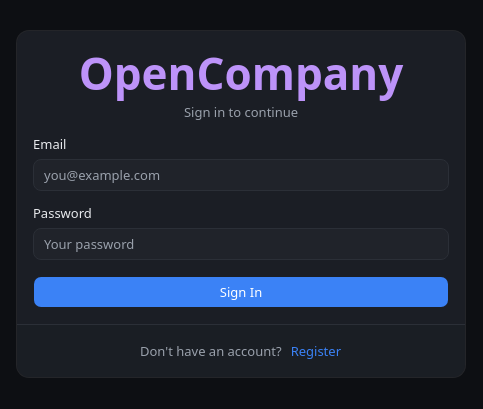
Test: LoginPage › requires a password
The width and height of the screenshot is (483, 409).
In the field labelled "Email": (241, 175) [33,159,449,191], type "a@b.com"
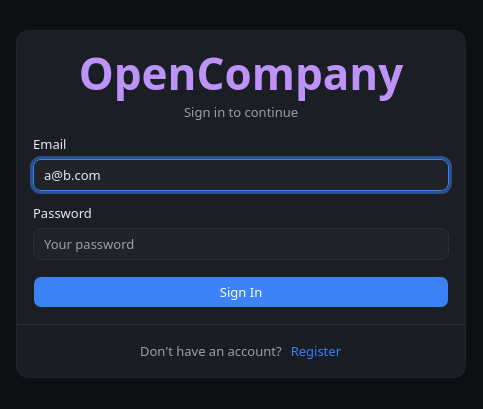
Click the button "Sign In": (241, 292) [33,276,449,308]
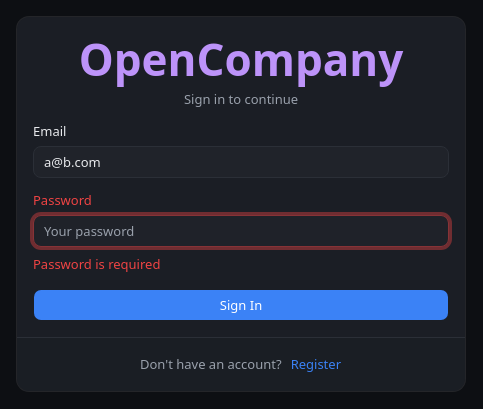
Check: the text "Password is required" is shown, box [33,255,160,273]
